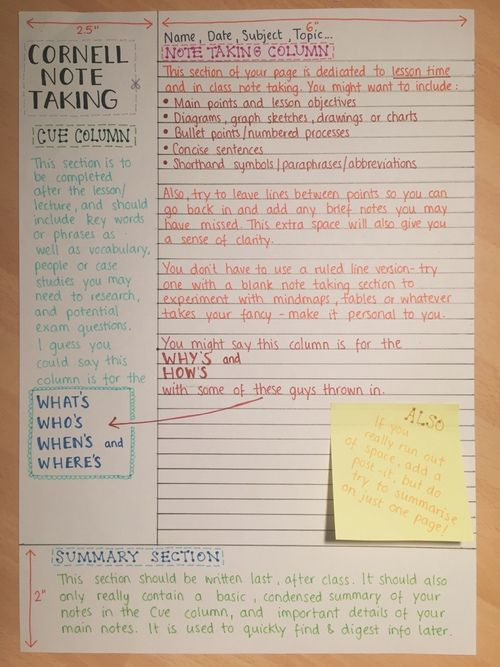page: (19, 12, 476, 656)
